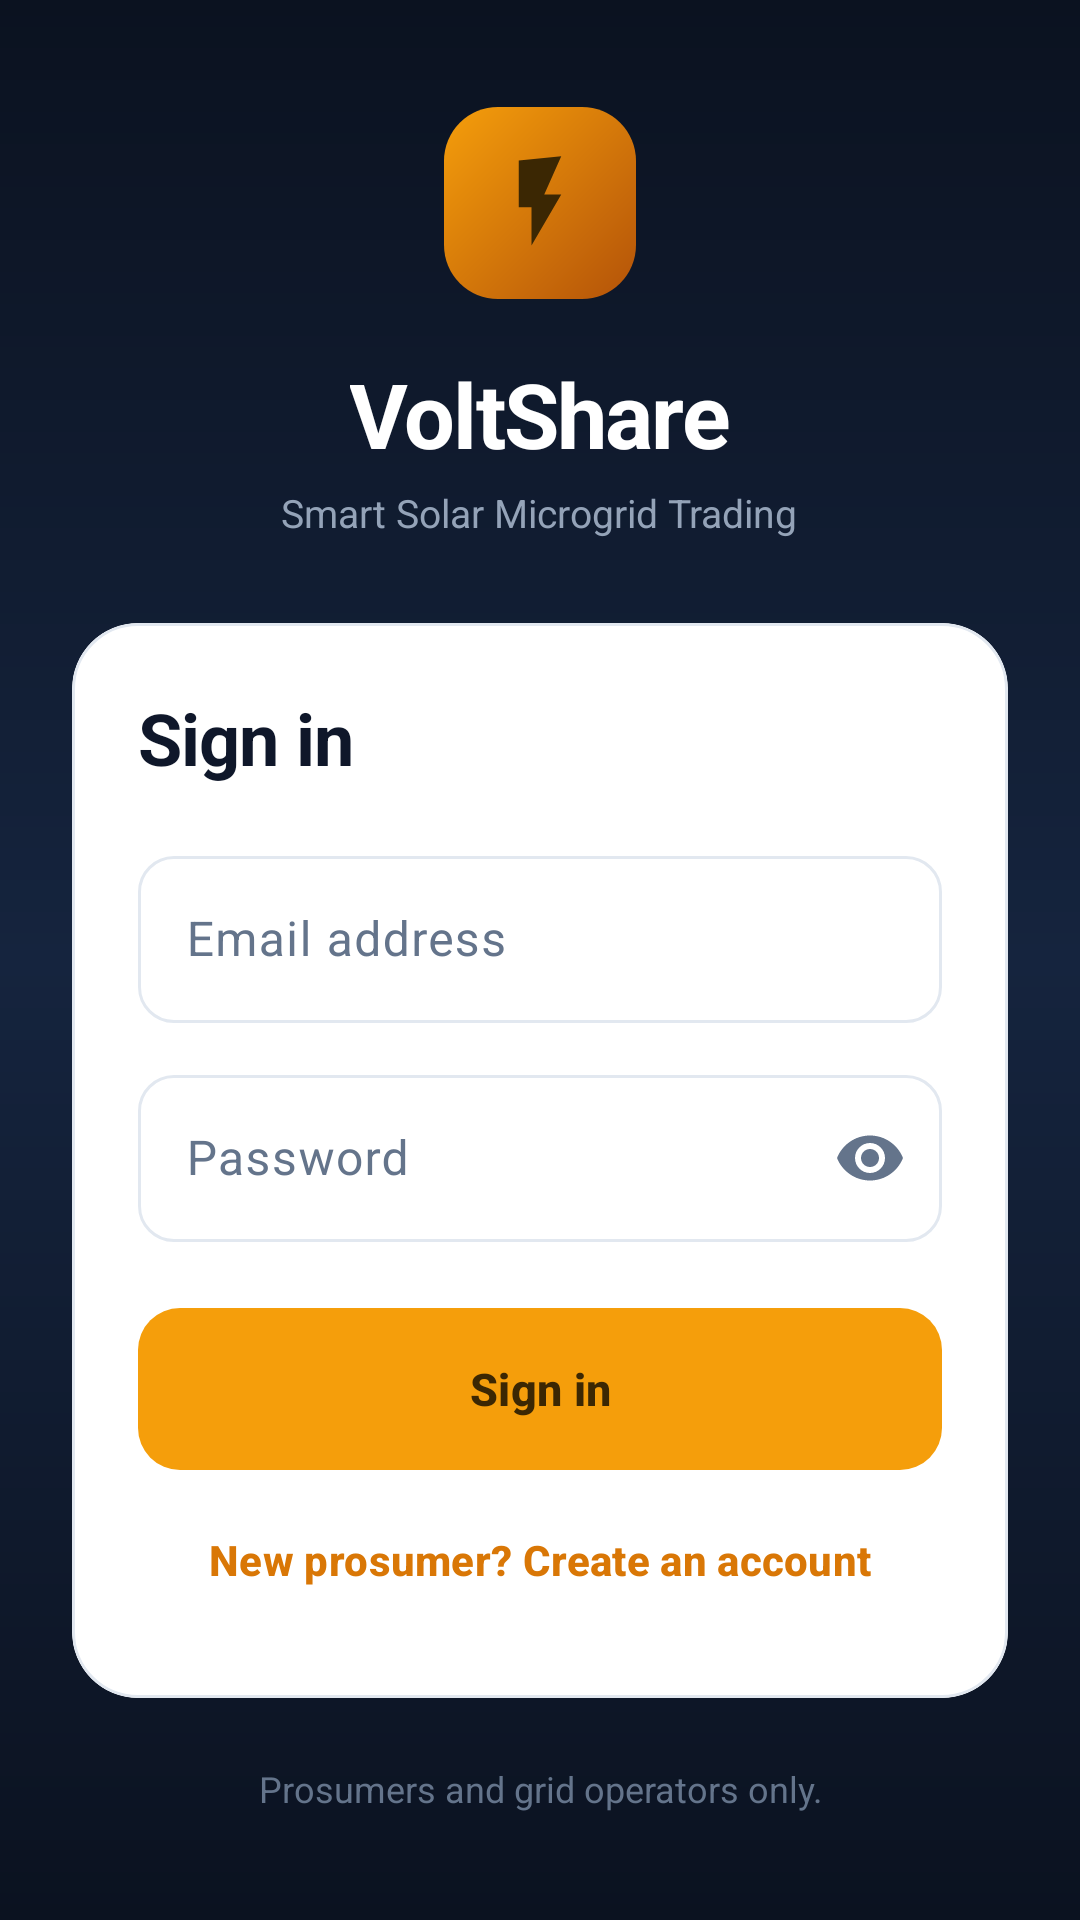

Named icons in this screenshot (1080*1920) and their bounding boxes, bbox(x1, y1, x2, y2):
bolt: bbox(444, 107, 636, 299)
